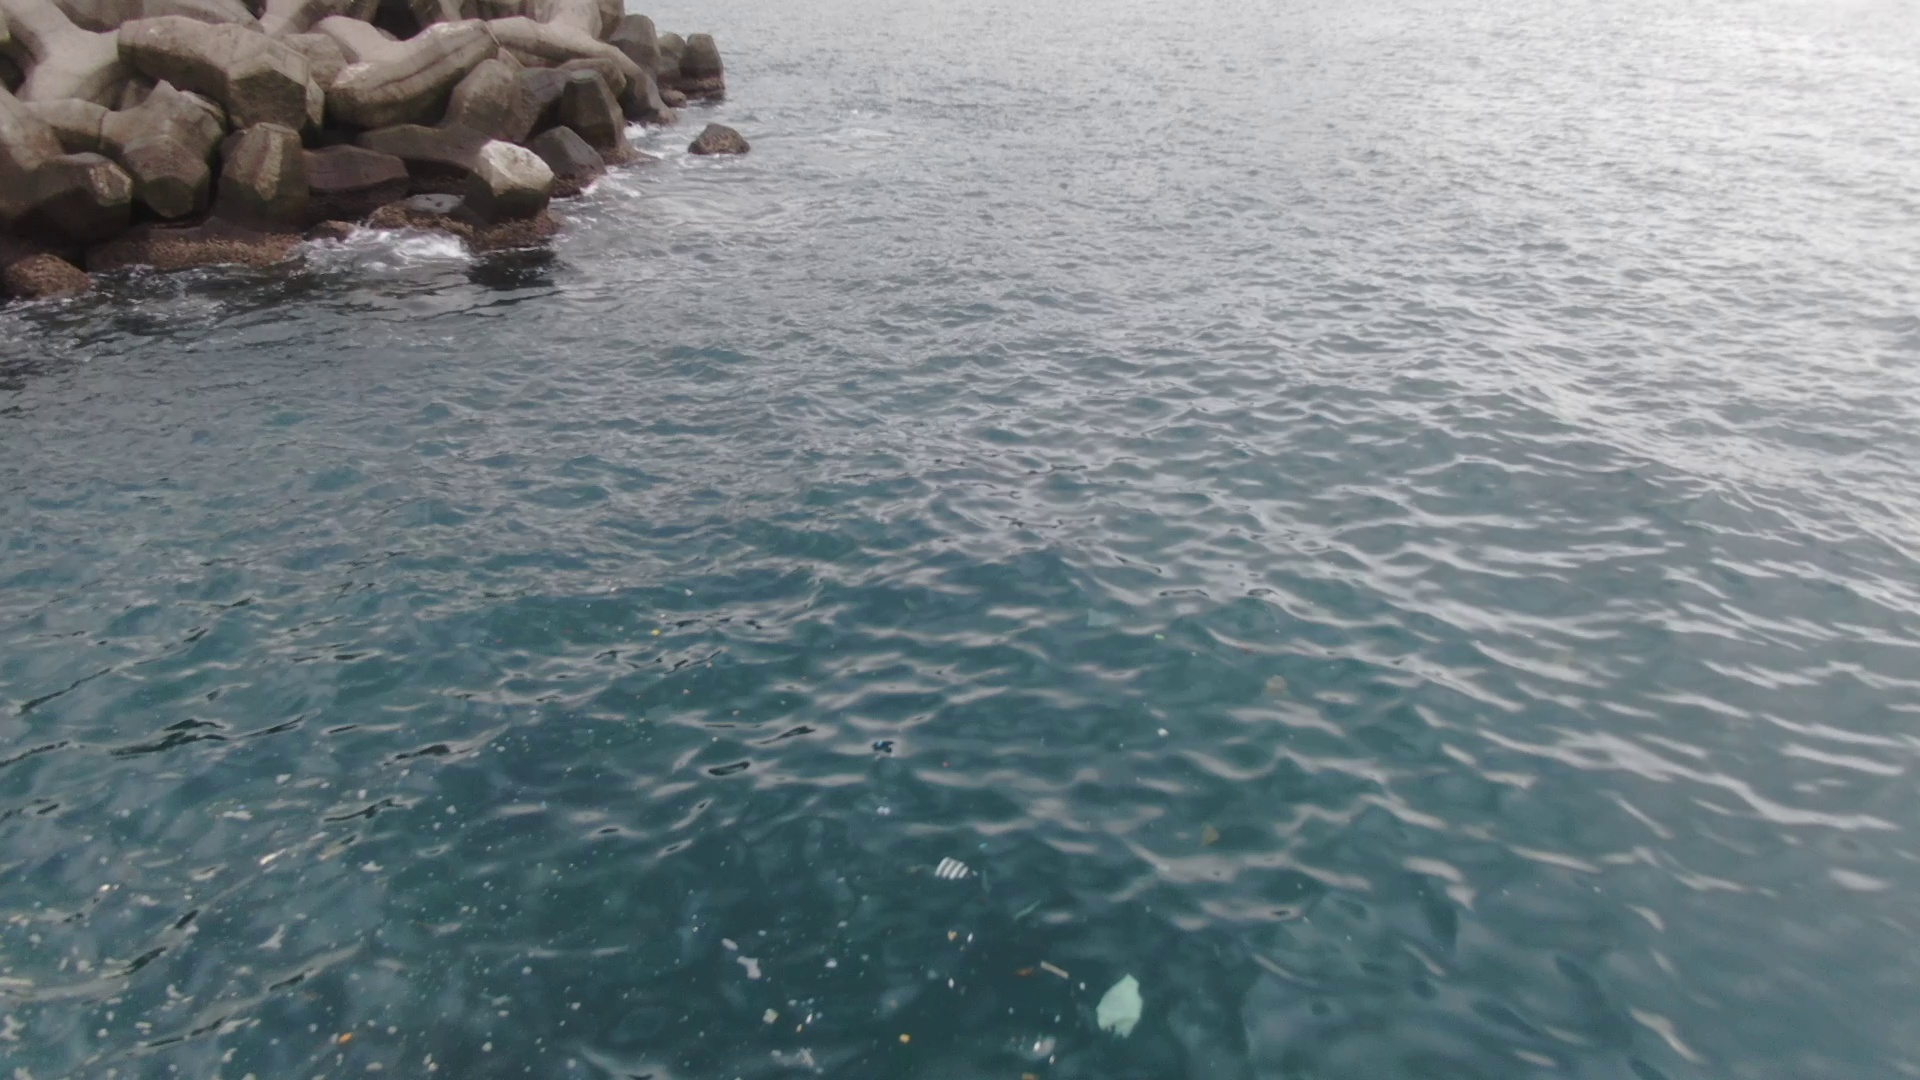garbage: (1079, 963, 1164, 1047)
